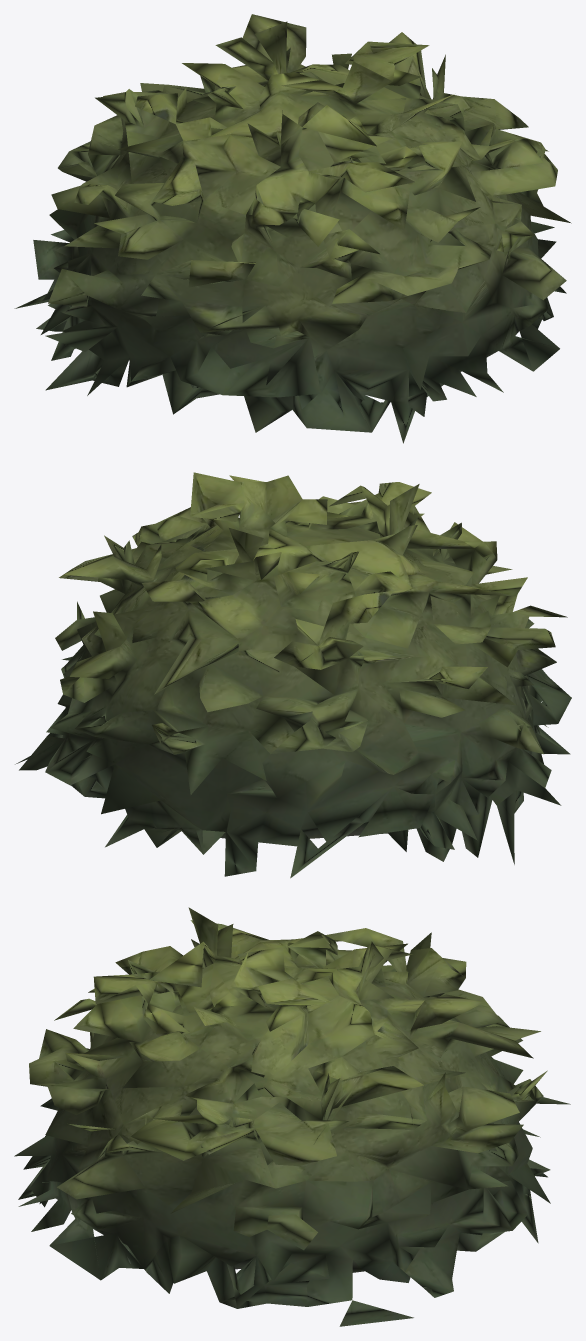
File: hd_bush.glb
3 views of the same model, one above another, from view 1: azimuth 30°, elevation 25°; view 2: azimuth 150°, elevation 25°; view 3: azimuth 270°, elevation 25° (orthographic).
Parts seen in each view (by area): view 1: tripo_node_d550b27d-f165-404c-8f0e-2b2fb998608b; view 2: tripo_node_d550b27d-f165-404c-8f0e-2b2fb998608b; view 3: tripo_node_d550b27d-f165-404c-8f0e-2b2fb998608b.
Boxes of the visible parts, box(x1,y1,x2,y2) form: tripo_node_d550b27d-f165-404c-8f0e-2b2fb998608b: box(14, 14, 571, 443); tripo_node_d550b27d-f165-404c-8f0e-2b2fb998608b: box(15, 472, 571, 878); tripo_node_d550b27d-f165-404c-8f0e-2b2fb998608b: box(14, 907, 570, 1326).
Bounding box in the file's own units: 0.9948 × 0.5624 × 0.9695.
1 material, 1 textured.
